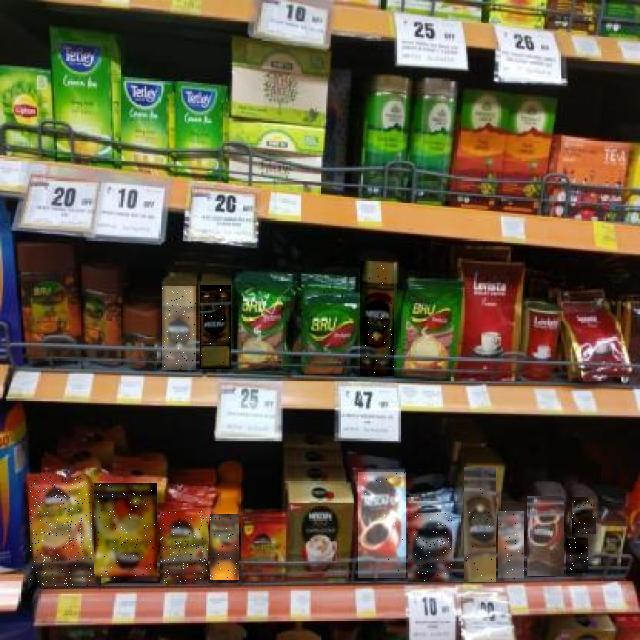Coffee: (31, 477, 93, 586), (94, 484, 157, 580), (359, 473, 407, 579), (361, 261, 395, 376), (464, 467, 496, 582), (160, 512, 208, 584), (408, 513, 452, 582), (527, 496, 564, 576), (162, 287, 196, 371), (200, 286, 231, 372), (210, 515, 239, 581), (499, 512, 525, 580), (572, 497, 596, 534), (566, 538, 588, 573)
